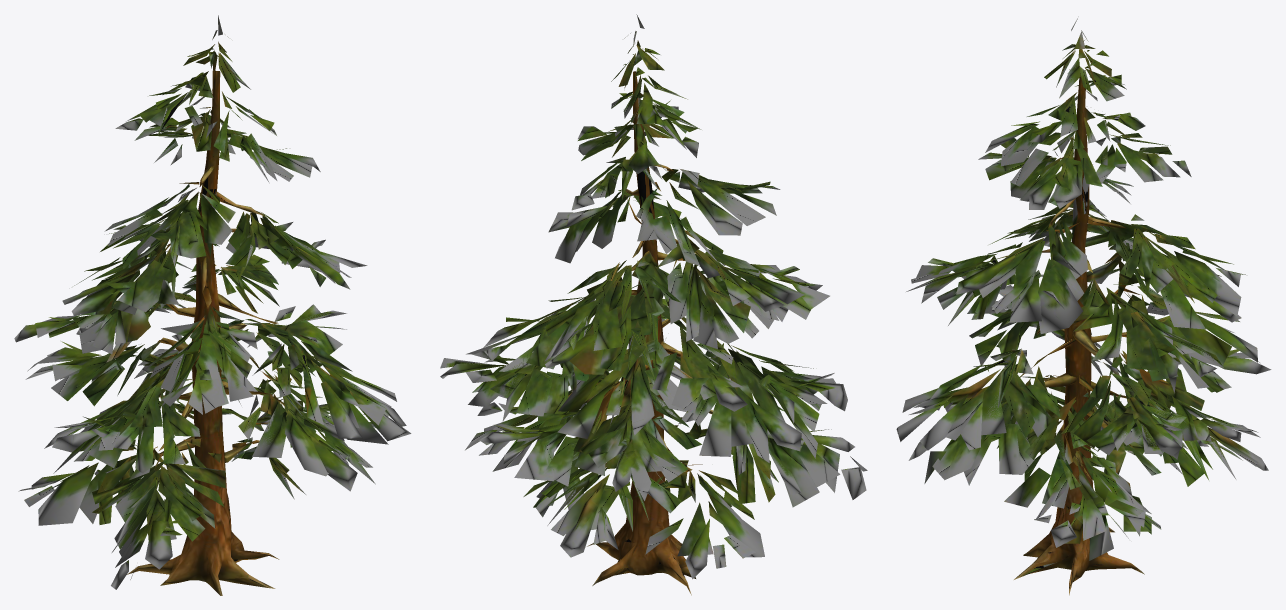
Rendered from spruce-dense.glb.
3 views of the same model, side by side, from view 1: azimuth 30°, elevation 25°; view 2: azimuth 150°, elevation 25°; view 3: azimuth 270°, elevation 25° (orthographic).
Visible parts, largest first — view 1: geometry_0; view 2: geometry_0; view 3: geometry_0.
Part boxes in pixels (<box>): geometry_0: <box>14,15,411,595</box>; geometry_0: <box>440,14,867,595</box>; geometry_0: <box>896,16,1271,595</box>.
Bounding box in the file's own units: 0.6313 × 0.9487 × 0.5815.
1 material, 1 textured.
